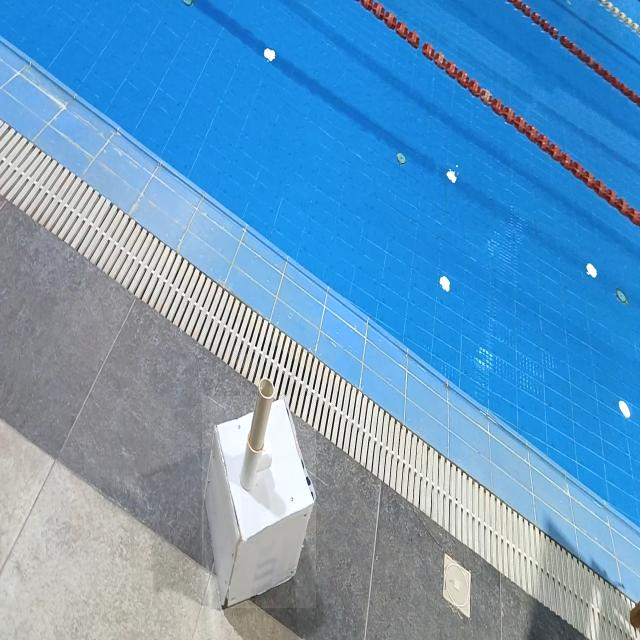Cube: (202, 396, 316, 608)
